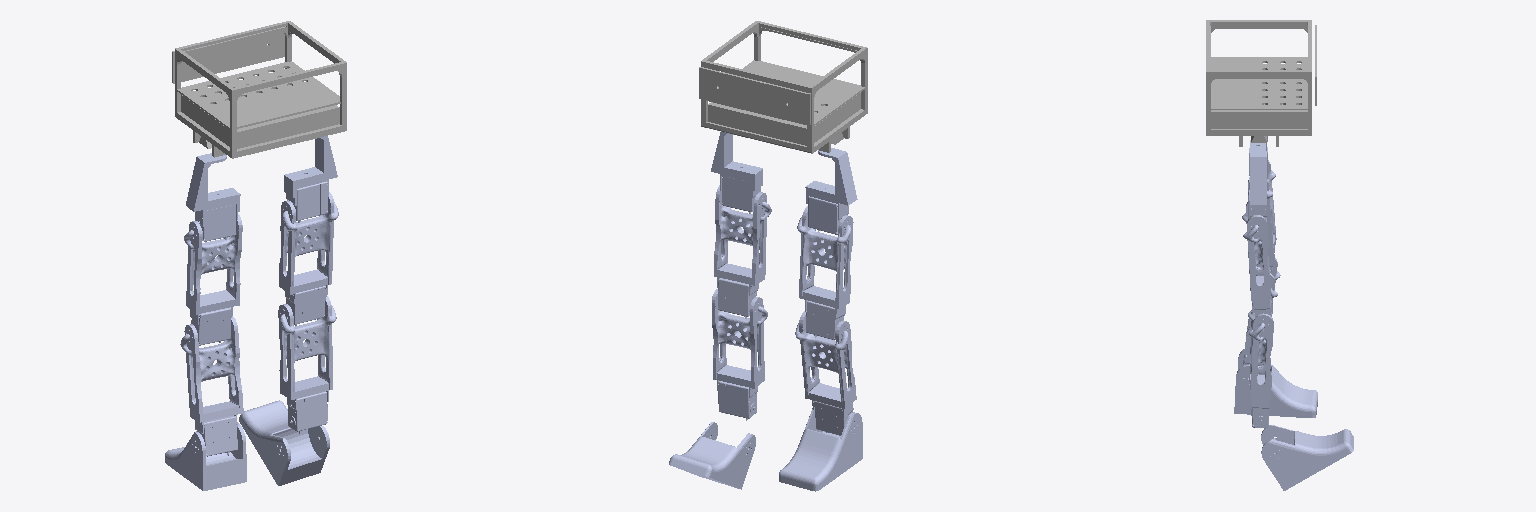
URDF robot description (biped_urdf_ff):
<?xml version="1.0" encoding="utf-8"?>
<!-- This URDF was automatically created by SolidWorks to URDF Exporter! Originally created by Stephen Brawner (brawner@gmail.com) 
     Commit Version: 1.6.0-4-g7f85cfe  Build Version: 1.6.7995.38578
     For more information, please see http://wiki.ros.org/sw_urdf_exporter -->
<robot
  name="biped_urdf_ff">
  <link
    name="base_link">
    <inertial>
      <origin
        xyz="0.0567114891561859 -0.149421333987205 0.0849439592220374"
        rpy="0 0 0" />
      <mass
        value="0.171395163597277" />
      <inertia
        ixx="8.15294272941173E-05"
        ixy="-5.98391970804399E-12"
        ixz="-2.02031529968224E-08"
        iyy="0.000195580300315273"
        iyz="-1.73311691279713E-20"
        izz="0.000138818427725874" />
    </inertial>
    <visual>
      <origin
        xyz="0 0 0"
        rpy="0 0 0" />
      <geometry>
        <mesh
          filename="package://biped_urdf_ff/meshes/base_link.STL" />
      </geometry>
      <material
        name="">
        <color
          rgba="0.792156862745098 0.819607843137255 0.933333333333333 1" />
      </material>
    </visual>
    <collision>
      <origin
        xyz="0 0 0"
        rpy="0 0 0" />
      <geometry>
        <mesh
          filename="package://biped_urdf_ff/meshes/base_link.STL" />
      </geometry>
    </collision>
  </link>
  <link
    name="ll1">
    <inertial>
      <origin
        xyz="-0.0331301764718445 0.00604643754613932 -3.68662978805223E-05"
        rpy="0 0 0" />
      <mass
        value="0.0590705733476927" />
      <inertia
        ixx="1.3308524861968E-05"
        ixy="2.12007467904402E-06"
        ixz="-2.95970560725237E-07"
        iyy="1.45598336886888E-05"
        iyz="1.28835885169357E-06"
        izz="2.36088365145483E-05" />
    </inertial>
    <visual>
      <origin
        xyz="0 0 0"
        rpy="0 0 0" />
      <geometry>
        <mesh
          filename="package://biped_urdf_ff/meshes/ll1.STL" />
      </geometry>
      <material
        name="">
        <color
          rgba="0.792156862745098 0.819607843137255 0.933333333333333 1" />
      </material>
    </visual>
    <collision>
      <origin
        xyz="0 0 0"
        rpy="0 0 0" />
      <geometry>
        <mesh
          filename="package://biped_urdf_ff/meshes/ll1.STL" />
      </geometry>
    </collision>
  </link>
  <joint
    name="cont1"
    type="revolute">
    <origin
      xyz="0.11411 -0.1504 0"
      rpy="1.684 1.5708 0" />
    <parent
      link="base_link" />
    <child
      link="ll1" />
    <axis
      xyz="1 0 0" />
    <limit lower="-0.52" upper="0.52" effort="3.43" velocity="5.41" /></joint>
  <link
    name="ll2">
    <inertial>
      <origin
        xyz="0.0747779942153111 -0.0015380803774169 -0.0218633616073591"
        rpy="0 0 0" />
      <mass
        value="0.0795049231060893" />
      <inertia
        ixx="3.09998801536096E-05"
        ixy="1.35614013922281E-07"
        ixz="1.0693565430683E-05"
        iyy="4.83526085393693E-05"
        iyz="3.04933886709055E-06"
        izz="6.62869503170479E-05" />
    </inertial>
    <visual>
      <origin
        xyz="0 0 0"
        rpy="0 0 0" />
      <geometry>
        <mesh
          filename="package://biped_urdf_ff/meshes/ll2.STL" />
      </geometry>
      <material
        name="">
        <color
          rgba="0.792156862745098 0.819607843137255 0.933333333333333 1" />
      </material>
    </visual>
    <collision>
      <origin
        xyz="0 0 0"
        rpy="0 0 0" />
      <geometry>
        <mesh
          filename="package://biped_urdf_ff/meshes/ll2.STL" />
      </geometry>
    </collision>
  </link>
  <joint
    name="cont2"
    type="revolute">
    <origin
      xyz="-0.0065092 0 0.001448"
      rpy="3.1416 0.33619 0" />
    <parent
      link="ll1" />
    <child
      link="ll2" />
    <axis
      xyz="0 1 0" />
    <limit lower="0" upper="1.2" effort="3.43" velocity="5.64" /></joint>
  <link
    name="ll3">
    <inertial>
      <origin
        xyz="0.0679591418386996 -0.0025267688983088 -0.0649049376822795"
        rpy="0 0 0" />
      <mass
        value="0.0795043675969588" />
      <inertia
        ixx="3.28803449611899E-05"
        ixy="5.95663063788888E-07"
        ixz="1.33285160279409E-05"
        iyy="4.83673600980289E-05"
        iyz="2.95344731148219E-06"
        izz="6.43915708182226E-05" />
    </inertial>
    <visual>
      <origin
        xyz="0 0 0"
        rpy="0 0 0" />
      <geometry>
        <mesh
          filename="package://biped_urdf_ff/meshes/ll3.STL" />
      </geometry>
      <material
        name="">
        <color
          rgba="0.792156862745098 0.819607843137255 0.933333333333333 1" />
      </material>
    </visual>
    <collision>
      <origin
        xyz="0 0 0"
        rpy="0 0 0" />
      <geometry>
        <mesh
          filename="package://biped_urdf_ff/meshes/ll3.STL" />
      </geometry>
    </collision>
  </link>
  <joint name="cont3" type="revolute">
  <origin xyz="0.1324 0 0.00094799" rpy="0 0.0053505 0"/>
  <parent link="ll2"/>
  <child link="ll3"/>
  <axis xyz="0 1 0"/>
  <limit lower="0" upper="1.2" effort="3.43" velocity="5.88"/></joint>
  <link
    name="ll4">
    <inertial>
      <origin
        xyz="0.0341316110659375 -2.84381394506095E-05 0.0660571788224024"
        rpy="0 0 0" />
      <mass
        value="0.148691958525113" />
      <inertia
        ixx="0.000133576095288607"
        ixy="3.32645197858341E-06"
        ixz="2.68401421549814E-05"
        iyy="0.000120549643497903"
        iyz="-7.44971378871517E-06"
        izz="7.27617764964248E-05" />
    </inertial>
    <visual>
      <origin
        xyz="0 0 0"
        rpy="0 0 0" />
      <geometry>
        <mesh
          filename="package://biped_urdf_ff/meshes/ll4.STL" />
      </geometry>
      <material
        name="">
        <color
          rgba="0.792156862745098 0.819607843137255 0.933333333333333 1" />
      </material>
    </visual>
    <collision>
      <origin
        xyz="0 0 0"
        rpy="0 0 0" />
      <geometry>
        <mesh
          filename="package://biped_urdf_ff/meshes/ll4.STL" />
      </geometry>
    </collision>
  </link>
  <joint name="cont4" type="revolute">
  <origin xyz="0.1324 0 0.0000" rpy="-3.1416 0.12441 0"/>
  <parent link="ll3"/>
  <child link="ll4"/>
  <axis xyz="0 1 0"/>
  <limit lower="0.2" upper="0.87" effort="1.57" velocity="3.57"/>
</joint>
  <link
    name="rf1">
    <inertial>
      <origin
        xyz="-0.0331301764718445 0.00581058927427622 0.00167266805104854"
        rpy="0 0 0" />
      <mass
        value="0.0590705733476928" />
      <inertia
        ixx="1.3308524861968E-05"
        ixy="2.11733465122801E-06"
        ixz="3.14974907331942E-07"
        iyy="1.45836876795204E-05"
        iyz="-1.36936275263394E-06"
        izz="2.35849825237168E-05" />
    </inertial>
    <visual>
      <origin
        xyz="0 0 0"
        rpy="0 0 0" />
      <geometry>
        <mesh
          filename="package://biped_urdf_ff/meshes/rf1.STL" />
      </geometry>
      <material
        name="">
        <color
          rgba="0.792156862745098 0.819607843137255 0.933333333333333 1" />
      </material>
    </visual>
    <collision>
      <origin
        xyz="0 0 0"
        rpy="0 0 0" />
      <geometry>
        <mesh
          filename="package://biped_urdf_ff/meshes/rf1.STL" />
      </geometry>
    </collision>
  </link>
  <joint
    name="cont5"
    type="revolute">
    <origin
      xyz="-0.00068189 -0.1503 0"
      rpy="-1.6657 1.5708 0" />
    <parent
      link="base_link" />
    <child
      link="rf1" />
    <axis
      xyz="1 0 0" />
    <limit lower="-0.52" upper="0.52" effort="3.42" velocity="5.41" /></joint>
  <link
    name="rf2">
    <inertial>
      <origin
        xyz="0.0623940392284774 -0.00178578809250587 -0.0466810680014669"
        rpy="0 0 0" />
      <mass
        value="0.079502800307503" />
      <inertia
        ixx="4.19000267872577E-05"
        ixy="-2.38470559264119E-06"
        ixz="1.94794815008575E-05"
        iyy="4.84070146342394E-05"
        iyz="-2.1759096954969E-06"
        izz="5.53316546324245E-05" />
    </inertial>
    <visual>
      <origin
        xyz="0 0 0"
        rpy="0 0 0" />
      <geometry>
        <mesh
          filename="package://biped_urdf_ff/meshes/rf2.STL" />
      </geometry>
      <material
        name="">
        <color
          rgba="0.792156862745098 0.819607843137255 0.933333333333333 1" />
      </material>
    </visual>
    <collision>
      <origin
        xyz="0 0 0"
        rpy="0 0 0" />
      <geometry>
        <mesh
          filename="package://biped_urdf_ff/meshes/rf2.STL" />
      </geometry>
    </collision>
  </link>
  <joint
    name="cont6"
    type="revolute">
    <origin
      xyz="-0.0065092 0 0.001448"
      rpy="3.1416 0.56368 0" />
    <parent
      link="rf1" />
    <child
      link="rf2" />
    <axis
      xyz="0 1 0" />
    <limit lower="0" upper="1.2" effort="3.43" velocity="5.64" /></joint>
  <link
    name="rf3">
    <inertial>
      <origin
        xyz="0.111733929823043 -0.00408469090397937 0.0446832738160031"
        rpy="0 0 0" />
      <mass
        value="0.0795039222090655" />
      <inertia
        ixx="6.26132172708374E-05"
        ixy="2.84147603278887E-06"
        ixz="-1.51367364008548E-05"
        iyy="4.84197016667648E-05"
        iyz="-1.29514773944099E-06"
        izz="3.46058798148801E-05" />
    </inertial>
    <visual>
      <origin
        xyz="0 0 0"
        rpy="0 0 0" />
      <geometry>
        <mesh
          filename="package://biped_urdf_ff/meshes/rf3.STL" />
      </geometry>
      <material
        name="">
        <color
          rgba="0.792156862745098 0.819607843137255 0.933333333333333 1" />
      </material>
    </visual>
    <collision>
      <origin
        xyz="0 0 0"
        rpy="0 0 0" />
      <geometry>
        <mesh
          filename="package://biped_urdf_ff/meshes/rf3.STL" />
      </geometry>
    </collision>
  </link>
  <joint name="cont7" type="revolute">
  <origin xyz="0.1324 0 0.00094799" rpy="0 1.5652 0"/>
  <parent link="rf2"/>
  <child link="rf3"/>
  <axis xyz="0 1 0"/>
  <!-- OPTION A (positive flexion like cont6): -->
  <limit lower="0" upper="1.2" effort="3.43" velocity="5.88"/>
  <!-- OPTION B (negative flexion):
  <limit lower="-1.2" upper="0" effort="3.43" velocity="5.88"/>
  -->
</joint>
  <link
    name="rf4">
    <inertial>
      <origin
        xyz="0.0859790175079487 -0.00275015617244208 0.0775130401914741"
        rpy="0 0 0" />
      <mass
        value="0.148691920517922" />
      <inertia
        ixx="0.000107881393728608"
        ixy="-6.21822668131555E-06"
        ixz="4.02229709564655E-05"
        iyy="0.000120439021775147"
        iyz="5.934580748932E-06"
        izz="9.85669688287998E-05" />
    </inertial>
    <visual>
      <origin
        xyz="0 0 0"
        rpy="0 0 0" />
      <geometry>
        <mesh
          filename="package://biped_urdf_ff/meshes/rf4.STL" />
      </geometry>
      <material
        name="">
        <color
          rgba="0.792156862745098 0.819607843137255 0.933333333333333 1" />
      </material>
    </visual>
    <collision>
      <origin
        xyz="0 0 0"
        rpy="0 0 0" />
      <geometry>
        <mesh
          filename="package://biped_urdf_ff/meshes/rf4.STL" />
      </geometry>
    </collision>
  </link>
  <joint name="cont8" type="revolute">
  <origin xyz="0.1324 0 0.0000" rpy="0 -0.4873 0"/>
  <parent link="rf3"/>
  <child link="rf4"/>
  <axis xyz="0 1 0"/>
  <limit lower="-0.2" upper="0.87" effort="1.57" velocity="3.57"/>
</joint>
  <link
    name="box">
    <inertial>
      <origin
        xyz="-0.109733214898333 -0.059064905125655 -0.0423874933094609"
        rpy="0 0 0" />
      <mass
        value="0.614519680968721" />
      <inertia
        ixx="0.000911441769130836"
        ixy="1.37970050157051E-07"
        ixz="3.86155451540105E-07"
        iyy="0.0012776894908344"
        iyz="2.7621057789539E-06"
        izz="0.00186826782081066" />
    </inertial>
    <visual>
      <origin
        xyz="0 0 0"
        rpy="0 0 0" />
      <geometry>
        <mesh
          filename="package://biped_urdf_ff/meshes/box.STL" />
      </geometry>
      <material
        name="">
        <color
          rgba="0.752941176470588 0.752941176470588 0.752941176470588 1" />
      </material>
    </visual>
    <collision>
      <origin
        xyz="0 0 0"
        rpy="0 0 0" />
      <geometry>
        <mesh
          filename="package://biped_urdf_ff/meshes/box.STL" />
      </geometry>
    </collision>
  </link>
  <joint
    name="fix_f"
    type="fixed">
    <origin
      xyz="0.16558 -0.088013 0.18246"
      rpy="0 0 0" />
    <parent
      link="base_link" />
    <child
      link="box" />
    <axis
      xyz="0 0 0" />
  </joint>
</robot>

--- Facts derived from the render (not from the file) ---
3 views of the same robot in one strip: view 1: azimuth 30°, elevation 25°; view 2: azimuth 150°, elevation 25°; view 3: azimuth 270°, elevation 25° (orthographic).
Robot: biped_urdf_ff — 10 links, 9 joints (8 revolute, 1 fixed); root link base_link; default pose: all joints at 0 but 1 set to mid-range because 0 is outside their limits (cont4 = 0.535).
Visible links, largest first — view 1: box, ll3, rf3, ll2, rf2, ll4, rf4, rf1, ll1; view 2: box, rf2, ll2, ll3, rf3, rf4, ll4, rf1, ll1; view 3: box, ll4, rf4, ll3, ll2, ll1, rf2.
Link boxes in pixels (x1,y1,x2,y2): box: [172, 21, 346, 158]; ll3: [278, 296, 336, 433]; rf3: [180, 316, 243, 456]; ll2: [279, 192, 338, 325]; rf2: [184, 214, 242, 345]; ll4: [239, 400, 329, 485]; rf4: [165, 423, 246, 490]; rf1: [186, 153, 240, 241]; ll1: [284, 136, 337, 222]; box: [699, 21, 867, 153]; rf2: [797, 206, 853, 339]; ll2: [714, 185, 771, 318]; ll3: [712, 289, 767, 420]; rf3: [795, 311, 856, 435]; rf4: [779, 408, 862, 491]; ll4: [669, 422, 755, 489]; rf1: [805, 148, 857, 234]; ll1: [711, 132, 762, 213]; box: [1206, 20, 1316, 146]; ll4: [1261, 425, 1353, 490]; rf4: [1234, 349, 1317, 417]; ll3: [1248, 300, 1273, 427]; ll2: [1242, 202, 1271, 316]; ll1: [1248, 146, 1266, 218]; rf2: [1248, 160, 1276, 276].
Bounding box of the posed robot: 0.1892 × 0.1808 × 0.5581 m (x, y, z).
9 mesh visuals loaded from 10 distinct referenced files (9 binary STL); not drawn: 1 (reference not matched to a file when rendering).
